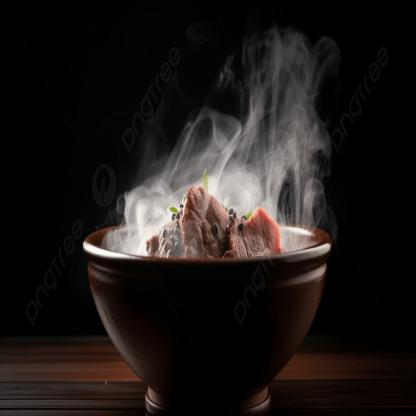smoke: (97, 27, 331, 265)
